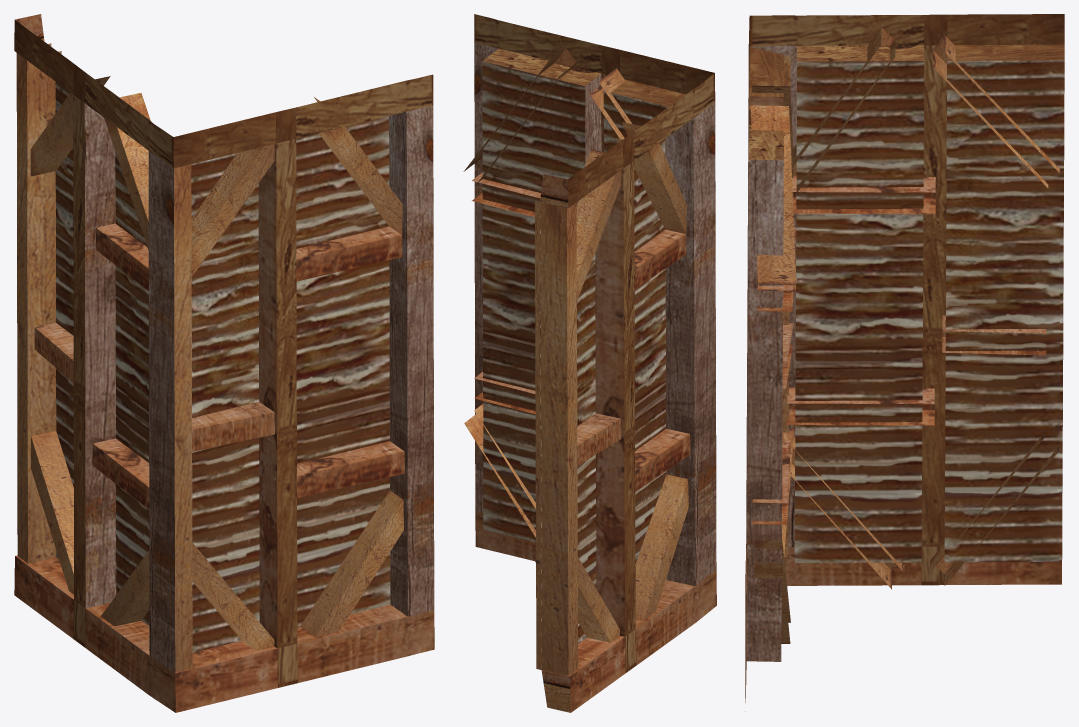
The model's file is ST_Corner.fbx.
The picture shows the model from 3 angles, left to right: view 1: azimuth 30°, elevation 25°; view 2: azimuth 150°, elevation 25°; view 3: azimuth 270°, elevation 25°; orthographic projection. The views are drawn at different scales.
Visible parts, largest first — view 1: SP_Corner; view 2: SP_Corner; view 3: SP_Corner.
Part boxes in pixels (x1,y1,x2,y2): SP_Corner: [14, 14, 434, 712]; SP_Corner: [463, 14, 716, 712]; SP_Corner: [745, 14, 1064, 711].
Bounding box in the file's own units: 178 × 375 × 190.
